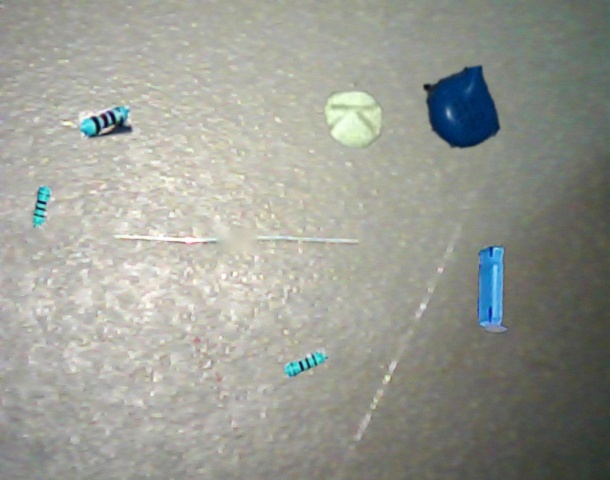capacitor: (423, 65, 500, 149), (323, 91, 383, 148), (477, 245, 508, 333)
resistor: (78, 106, 132, 139), (282, 347, 328, 379), (32, 185, 52, 229)
